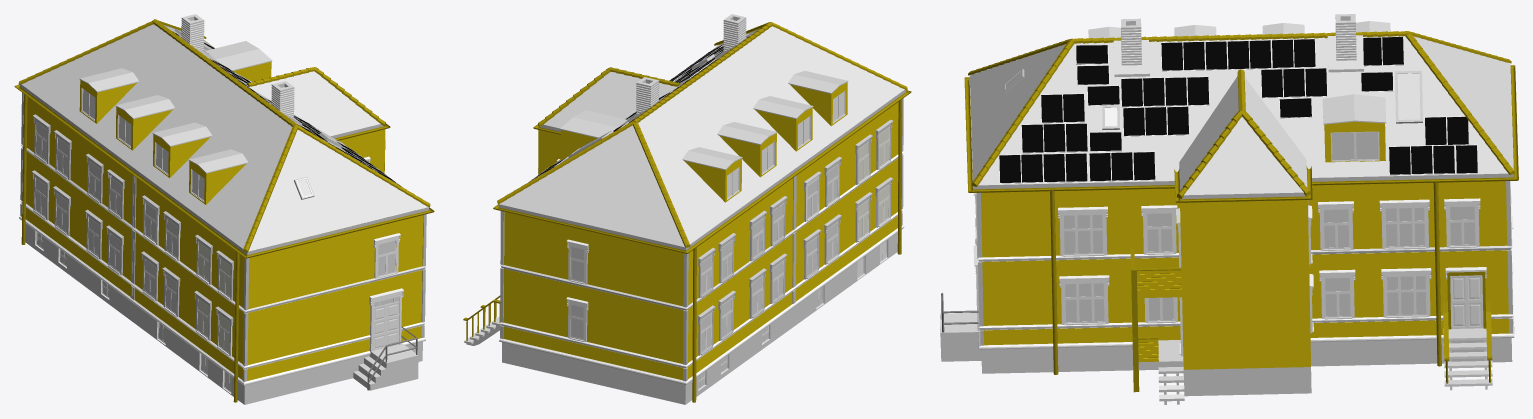
Rendered from house_panel_1_0100.glb.
The picture shows the model from 3 angles, left to right: view 1: azimuth 30°, elevation 25°; view 2: azimuth 150°, elevation 25°; view 3: azimuth 270°, elevation 25°; orthographic projection. The views are drawn at different scales.
Visible parts, largest first — view 1: SketchUp.874, SketchUp.871, SketchUp.865, SketchUp.002, SketchUp.511, SketchUp.484, SketchUp.001, SketchUp.872, SketchUp.015, SketchUp.057, SketchUp.052, SketchUp.734 (+19 smaller); view 2: SketchUp.874, SketchUp.871, SketchUp.002, SketchUp.865, SketchUp.484, SketchUp.511, SketchUp.001, SketchUp.872, SketchUp.057, SketchUp.052, SketchUp.734, SketchUp.522 (+14 smaller); view 3: SketchUp.874, SketchUp.871, SketchUp.868, SketchUp.865, SketchUp.002, SketchUp, SketchUp.511, SketchUp.872, SketchUp.734, SketchUp.057, SketchUp.484, SketchUp.019 (+73 smaller).
Part boxes in pixels (x1,y1,x2,y2): SketchUp.874: [25, 97, 423, 380]; SketchUp.871: [21, 24, 428, 251]; SketchUp.865: [249, 71, 380, 136]; SketchUp.002: [25, 224, 422, 404]; SketchUp.511: [14, 40, 434, 258]; SketchUp.484: [19, 216, 425, 385]; SketchUp.001: [109, 286, 199, 370]; SketchUp.872: [20, 84, 428, 255]; SketchUp.015: [353, 351, 418, 390]; SketchUp.057: [20, 200, 425, 369]; SketchUp.052: [21, 144, 426, 313]; SketchUp.734: [205, 41, 272, 70]; SketchUp.874: [503, 102, 898, 380]; SketchUp.871: [499, 26, 904, 247]; SketchUp.002: [502, 232, 897, 404]; SketchUp.865: [544, 72, 677, 128]; SketchUp.484: [499, 225, 904, 384]; SketchUp.511: [493, 48, 911, 253]; SketchUp.001: [770, 262, 857, 343]; SketchUp.872: [498, 89, 905, 250]; SketchUp.057: [499, 209, 903, 368]; SketchUp.052: [500, 153, 902, 310]; SketchUp.734: [560, 110, 626, 138]; SketchUp.522: [790, 82, 847, 126]; SketchUp.874: [981, 109, 1508, 345]; SketchUp.871: [969, 36, 1513, 185]; SketchUp.868: [1180, 200, 1310, 369]; SketchUp.865: [1179, 76, 1307, 195]; SketchUp.002: [981, 338, 1512, 373]; SketchUp: [1183, 366, 1311, 396]; SketchUp.511: [964, 65, 1518, 192]; SketchUp.872: [969, 77, 1513, 189]; SketchUp.734: [1322, 94, 1386, 124]; SketchUp.057: [975, 218, 1513, 330]; SketchUp.484: [975, 240, 1514, 349]; SketchUp.019: [1137, 270, 1181, 298].
Size of the model in its own units: 13.74 by 13.47 by 22.92.
